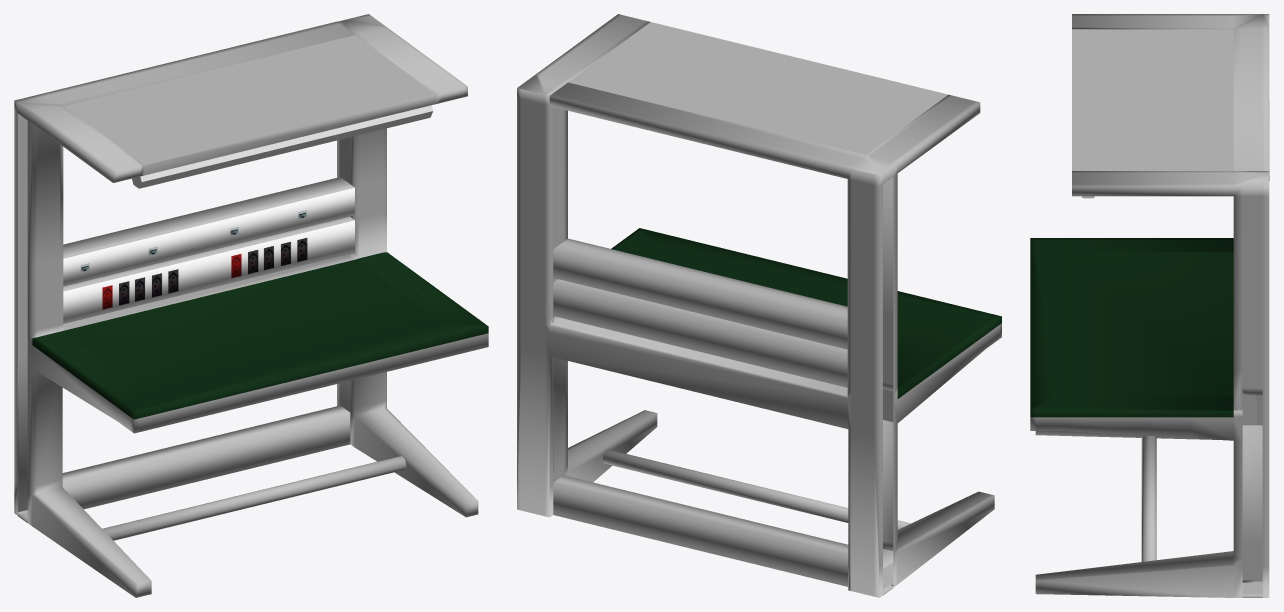
Rendered from mesa de had.fbx.
3 renders of one model, left to right at view 1: azimuth 30°, elevation 25°; view 2: azimuth 150°, elevation 25°; view 3: azimuth 270°, elevation 25°, orthographic. The views are drawn at different scales.
Visible parts, largest first — view 1: mesa de rede; view 2: mesa de rede; view 3: mesa de rede.
Boxes of the visible parts, <box> form: mesa de rede: <box>14,14,488,597</box>; mesa de rede: <box>517,14,1001,597</box>; mesa de rede: <box>1030,14,1269,597</box>.
Bounding box in the file's own units: 0.9032 × 1.01 × 0.5291.
4 materials, 1 textured.
